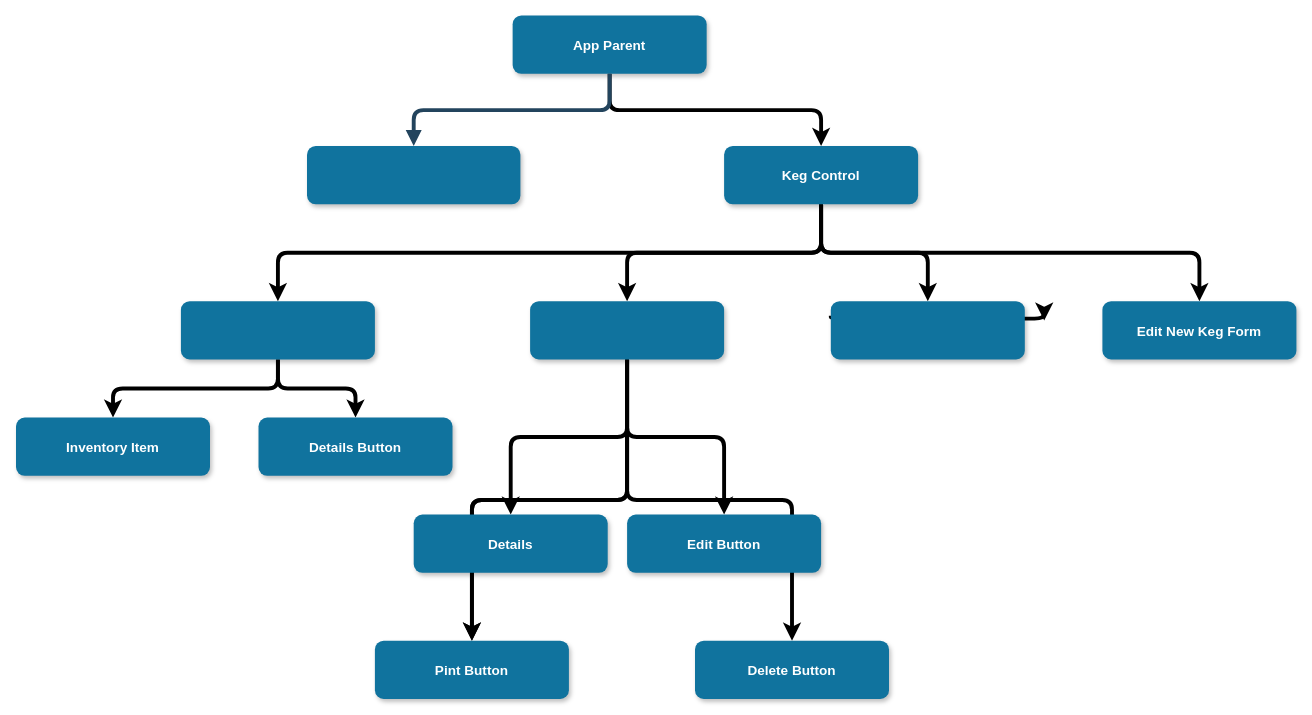
This 1312x715 diagram has some shape labels left out. The shapes that lost their labels are listed below. From the top down, each one's centre as x and y in pixels, then its label:
At [414,176]: "Header".
At [278,331]: "Keg Inventory".
At [627,331]: "Keg Details".
At [928,331]: "New Keg Form".
